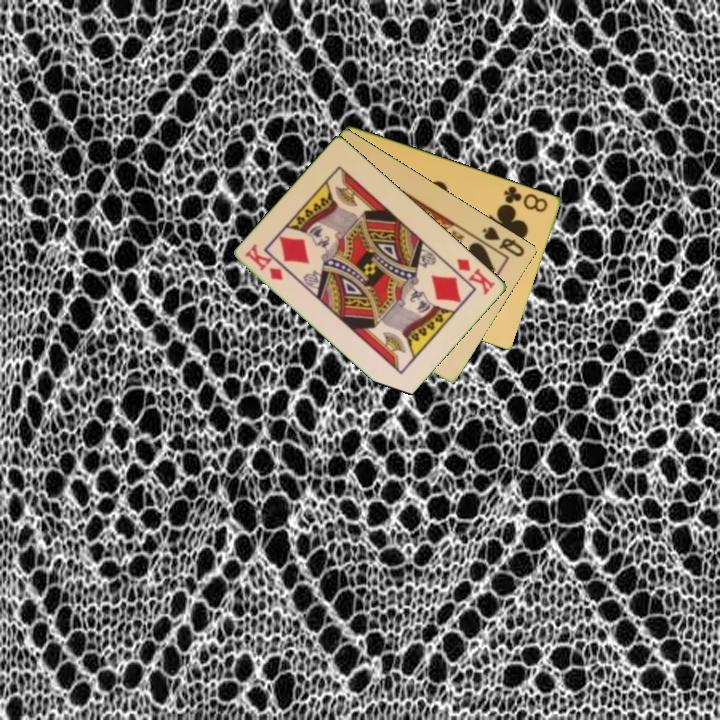8c: (500, 182, 551, 215)
Kd: (453, 254, 498, 298), (242, 241, 286, 283)
Qs: (479, 223, 528, 260)
